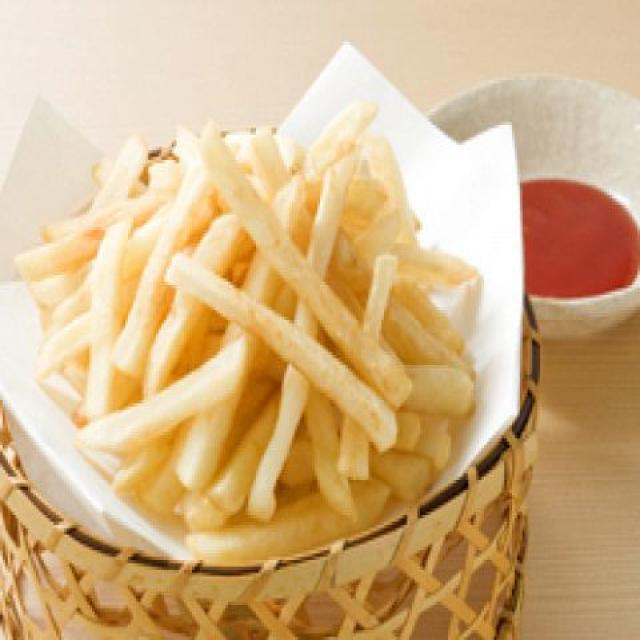French Fries: (42, 108, 478, 514)
